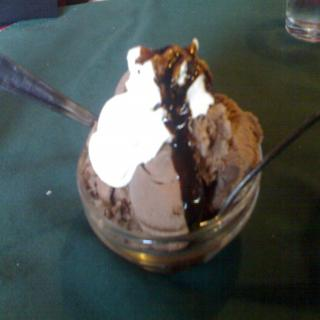Ice cream: (66, 32, 268, 275)
